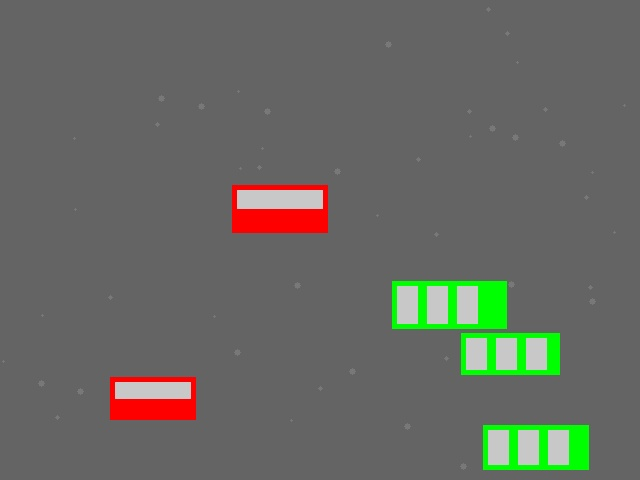bus: (392, 281, 506, 328), (483, 425, 588, 469), (461, 333, 559, 374)
car: (232, 185, 327, 232), (110, 377, 195, 419)
